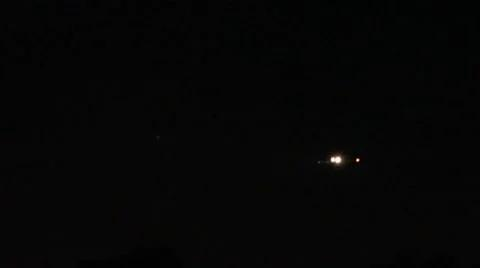Plane: (294, 135, 390, 182)
